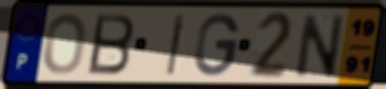2: (248, 10, 295, 82)
B: (86, 12, 138, 76)
G: (193, 11, 243, 78)
I: (164, 12, 189, 77)
N: (294, 12, 347, 80)
O: (41, 11, 89, 77)
